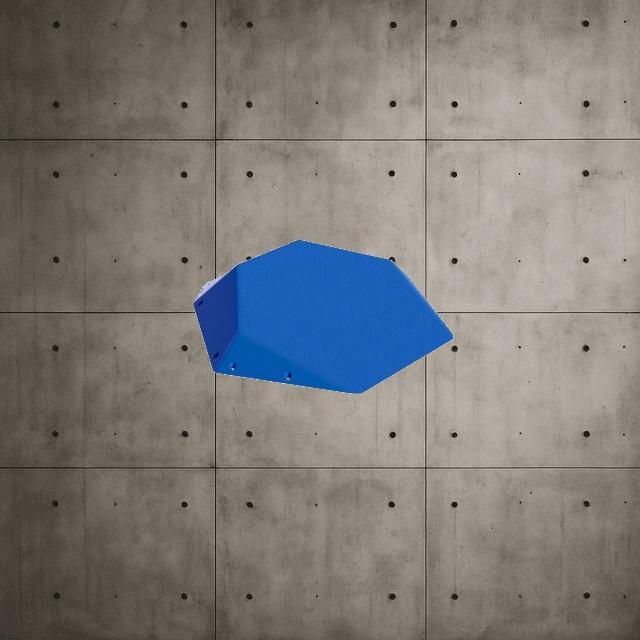Volume: (191, 238, 453, 394)
